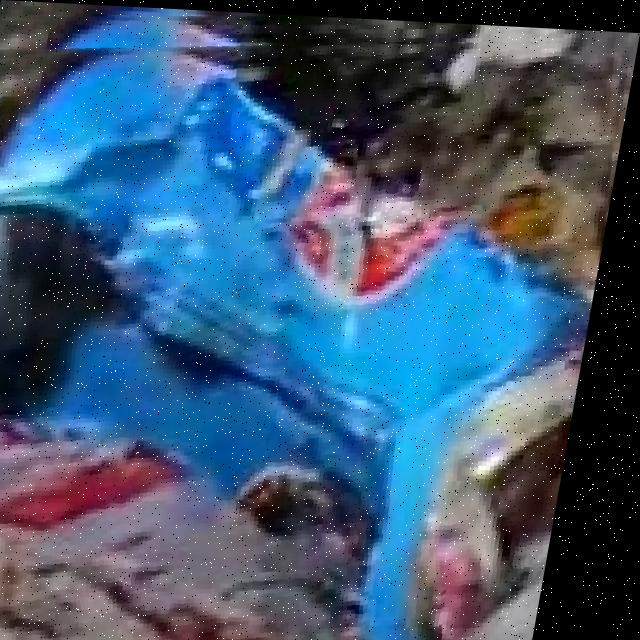litter: (0, 39, 601, 640)
